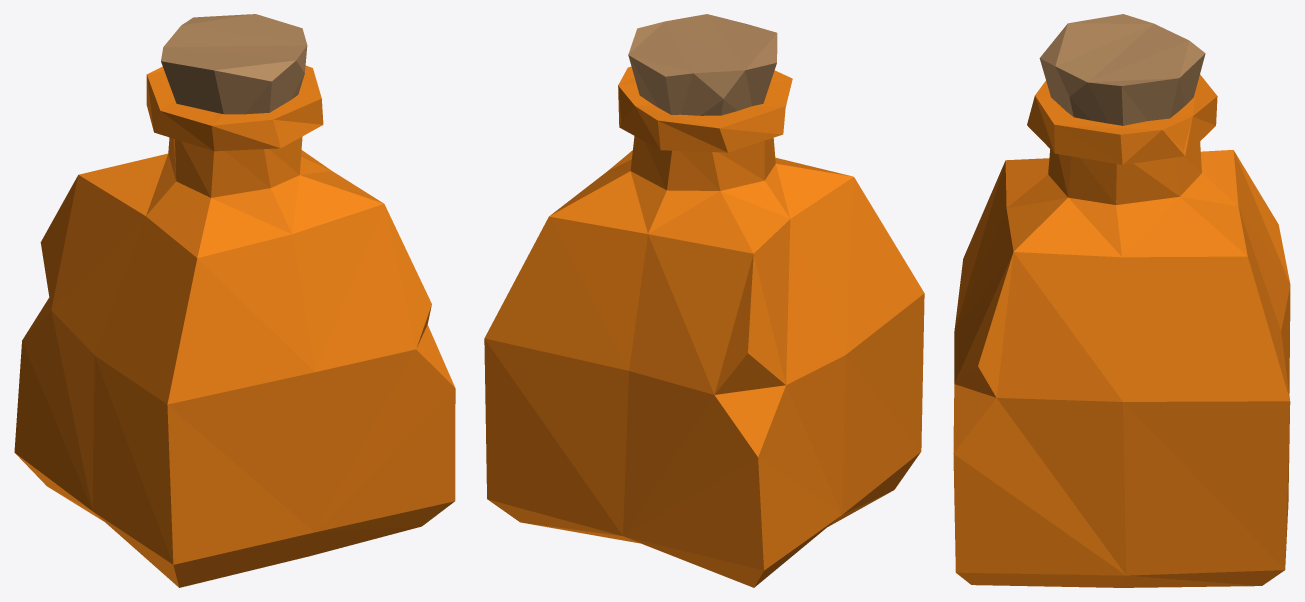
Rendered from AWS_Potion_Orange_006.fbx.
3 views of the same model, side by side, from view 1: azimuth 30°, elevation 25°; view 2: azimuth 150°, elevation 25°; view 3: azimuth 270°, elevation 25° (orthographic). The views are drawn at different scales.
Visible parts, largest first — view 1: AWS_Potion_Orange_006; view 2: AWS_Potion_Orange_006; view 3: AWS_Potion_Orange_006.
Boxes of the visible parts, box(x1,y1,x2,y2) form: AWS_Potion_Orange_006: box(14, 14, 455, 587); AWS_Potion_Orange_006: box(484, 14, 924, 587); AWS_Potion_Orange_006: box(953, 14, 1290, 587).
Size of the model in its own units: 5.61 by 8.71 by 5.46.
